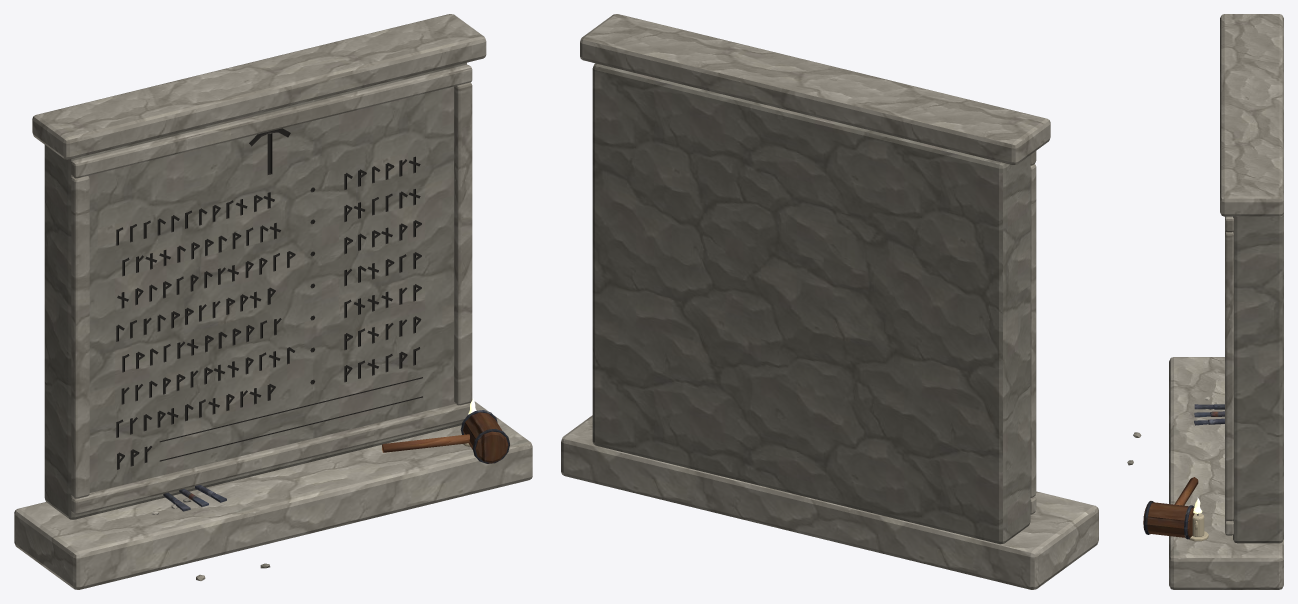
File: qb_name_roll.glb
The picture shows the model from 3 angles, left to right: view 1: azimuth 30°, elevation 25°; view 2: azimuth 150°, elevation 25°; view 3: azimuth 270°, elevation 25°; orthographic projection. The views are drawn at different scales.
Visible parts, largest first — view 1: model; view 2: model; view 3: model.
Part boxes in pixels (x1,y1,x2,y2): model: [14, 14, 532, 589]; model: [561, 14, 1098, 589]; model: [1127, 14, 1283, 589].
Size of the model in its own units: 1.5 by 1.34 by 0.4917.
Materials: 11 (7 with a texture image).
